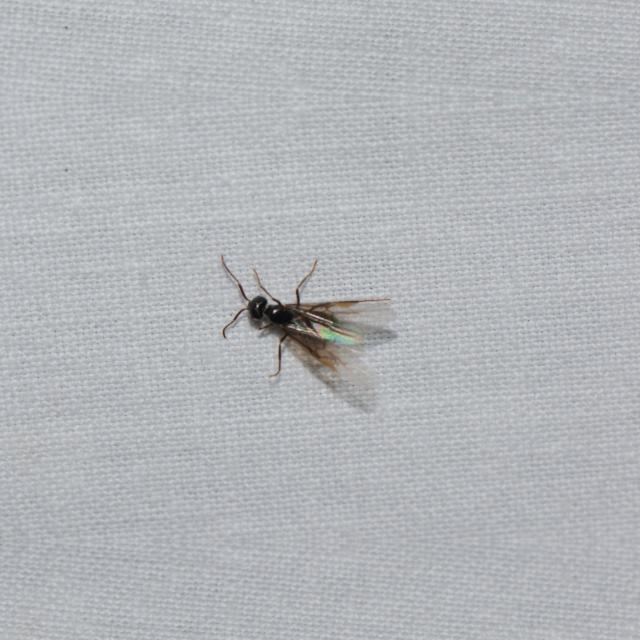Lasius: (199, 256, 413, 390)
